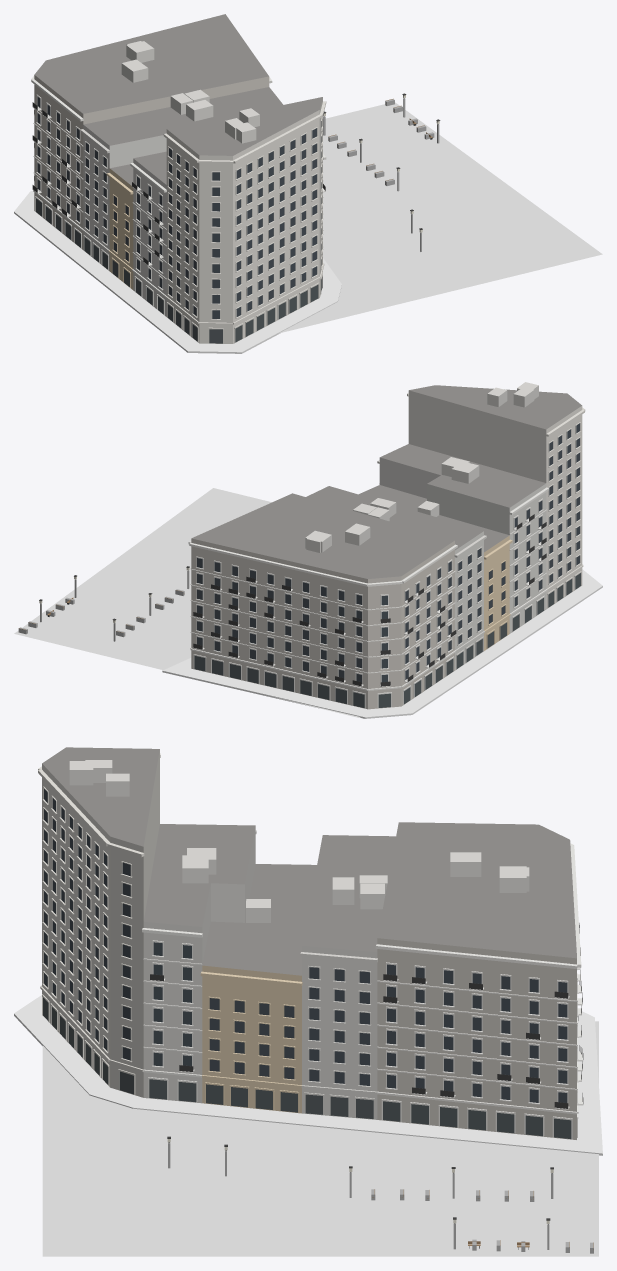
The model's file is chunk_05_04.glb.
The picture shows the model from 3 angles, top to bottom: view 1: azimuth 30°, elevation 25°; view 2: azimuth 150°, elevation 25°; view 3: azimuth 270°, elevation 25°; orthographic projection. The views are drawn at different scales.
Visible parts, largest first — view 1: chunk_05_04_LOD0, chunk_05_04_COL; view 2: chunk_05_04_LOD0, chunk_05_04_COL; view 3: chunk_05_04_LOD0, chunk_05_04_COL.
Boxes of the visible parts, box(x1,y1,x2,y2) form: chunk_05_04_LOD0: box(14, 14, 602, 353); chunk_05_04_COL: box(323, 98, 439, 251); chunk_05_04_LOD0: box(14, 382, 602, 718); chunk_05_04_COL: box(18, 570, 189, 641); chunk_05_04_LOD0: box(14, 747, 602, 1256); chunk_05_04_COL: box(168, 1142, 593, 1253).
Size of what is drawn, in the model's own units: 91.13 by 42.7 by 84.68.
